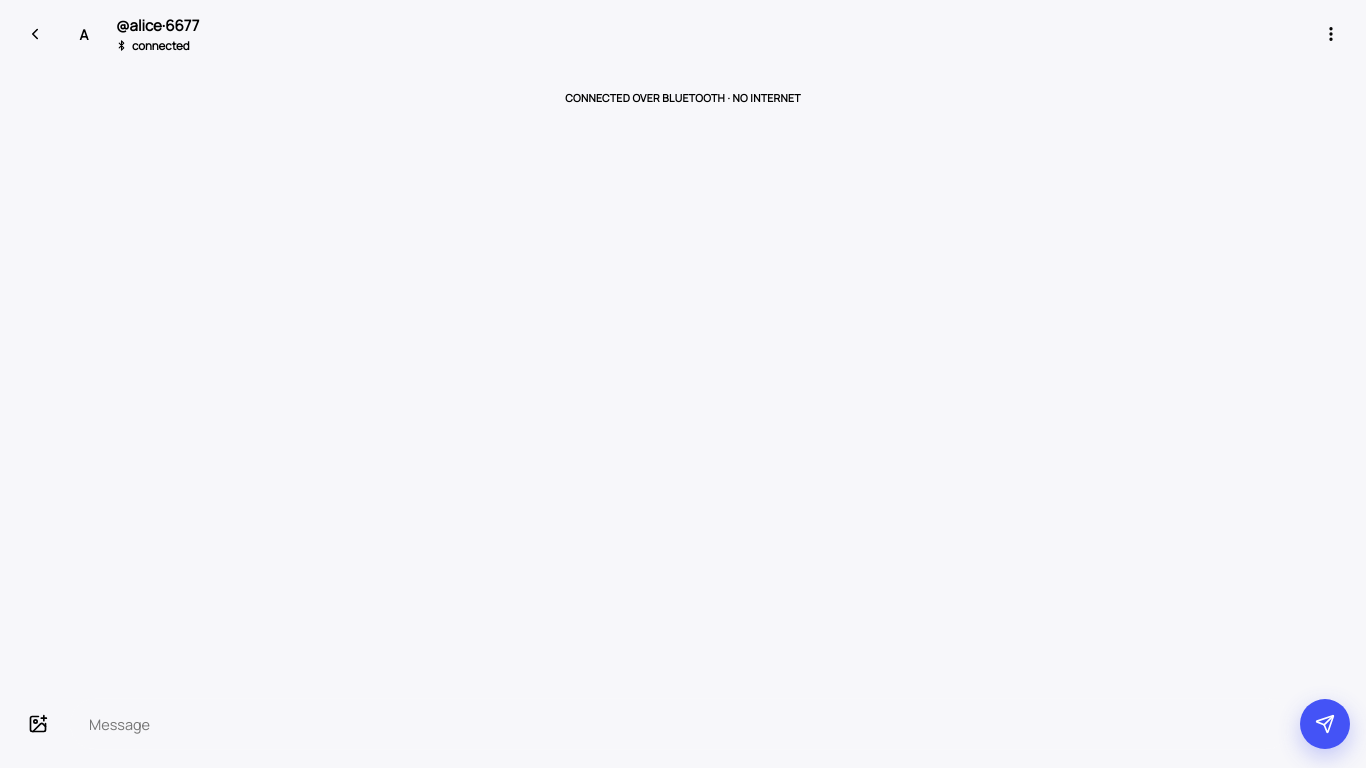
Test case: ChatScreen — blocking a contact › blocks from the chat menu and replaces the composer
Click the button named "Chat options" at [1331, 34], box [1314,17,1348,51]
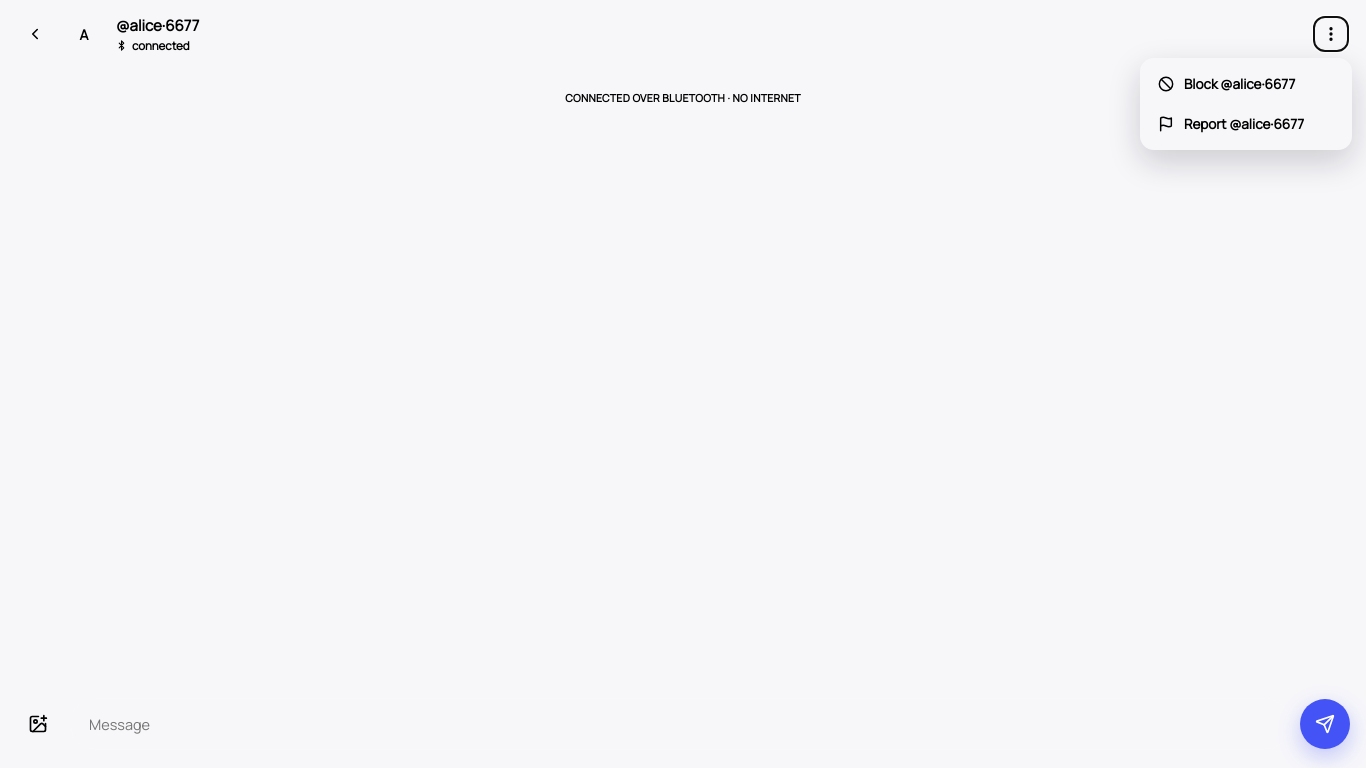
Click the menu item "Block @alice·6677" at [1246, 84], box [1146,64,1346,104]
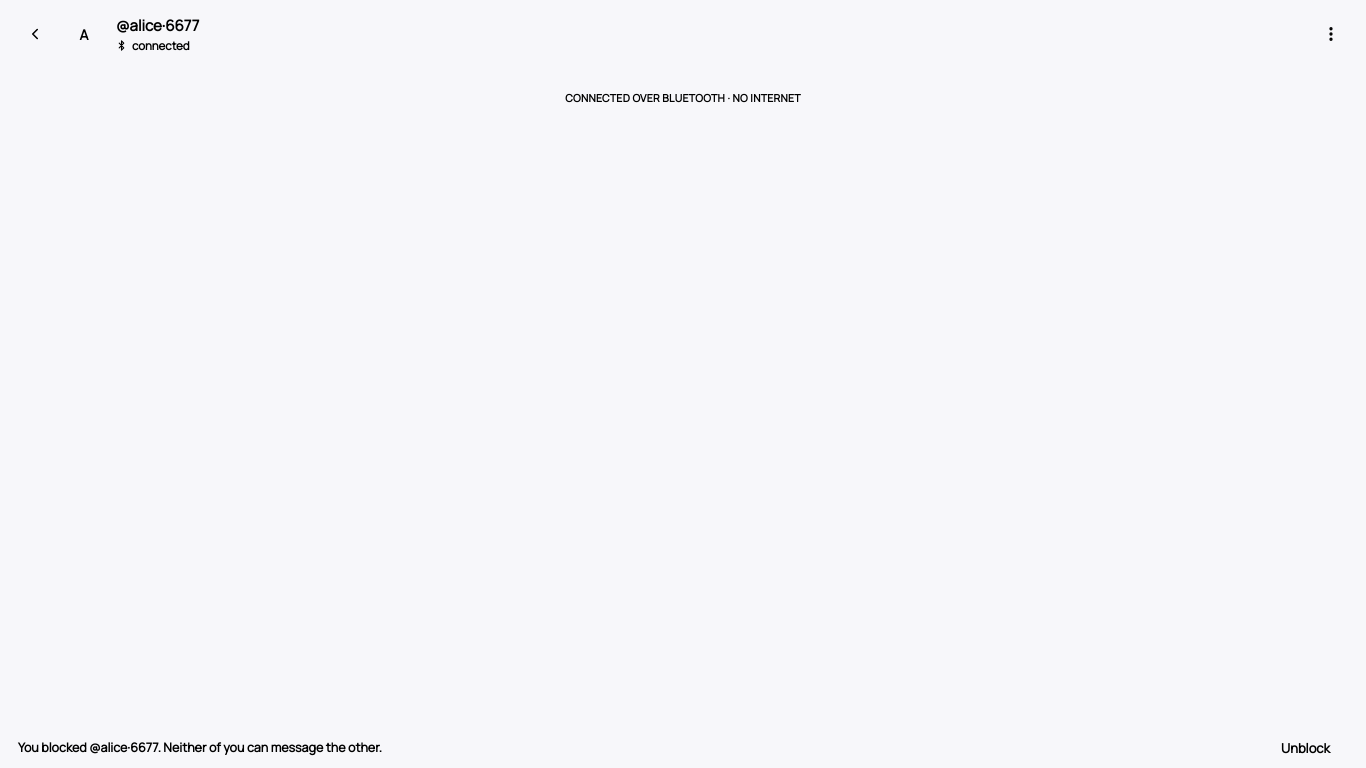
Check: the text "You blocked @alice·6677" is shown, box [18,739,382,756]
Check: the button "Send" is gone
Check: the menu is gone
